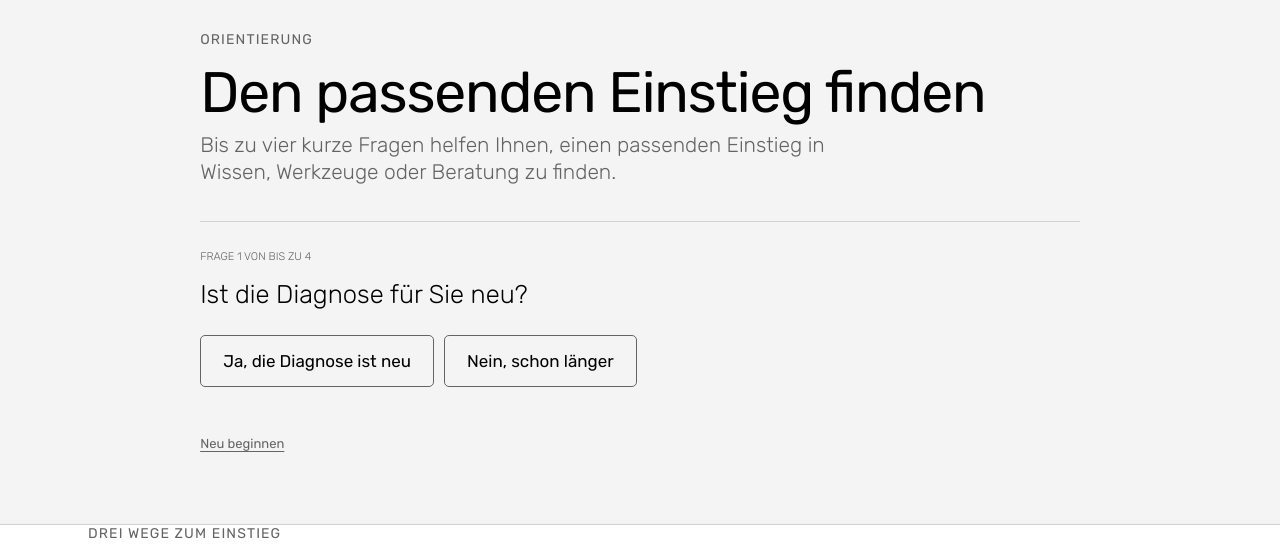
HomePage triage flow › routes a new diagnosis to the introductory module and can restart
This screenshot has width=1280, height=554.
(page scrolled)
What coordinates should you click on to do the following:
click the button "Ja, die Diagnose ist neu"
I would click on:
 (317, 361)
Its box is [200,335,434,387].
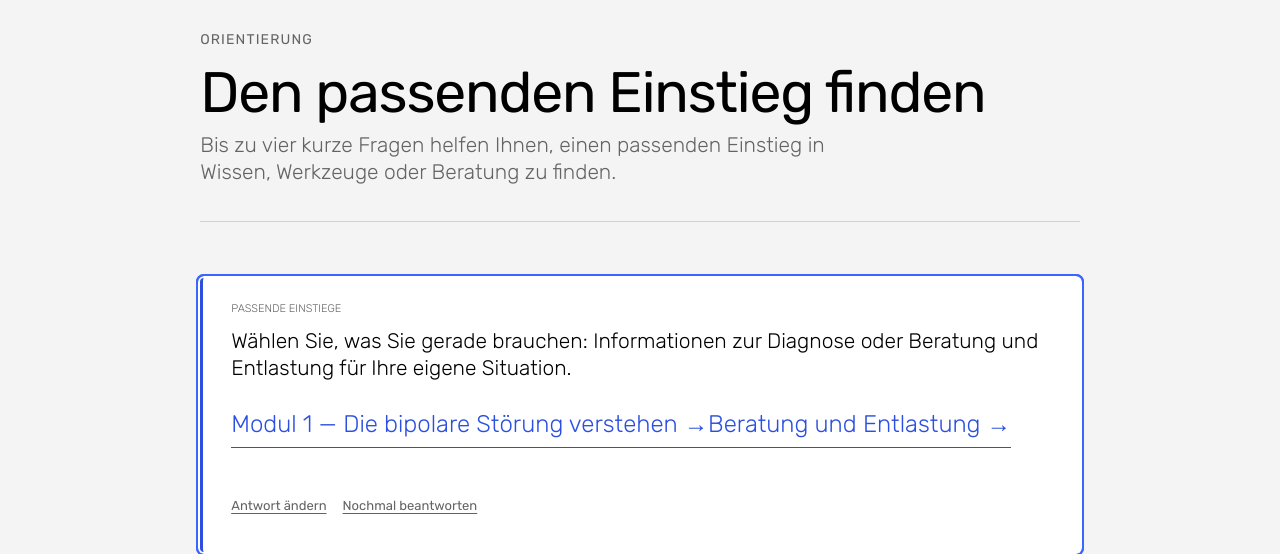
What coordinates should you click on to do the following:
click the link "Modul 1 — Die bipolare Störung verstehen →"
I would click on:
 (470, 426)
Its box is [231,404,708,448].
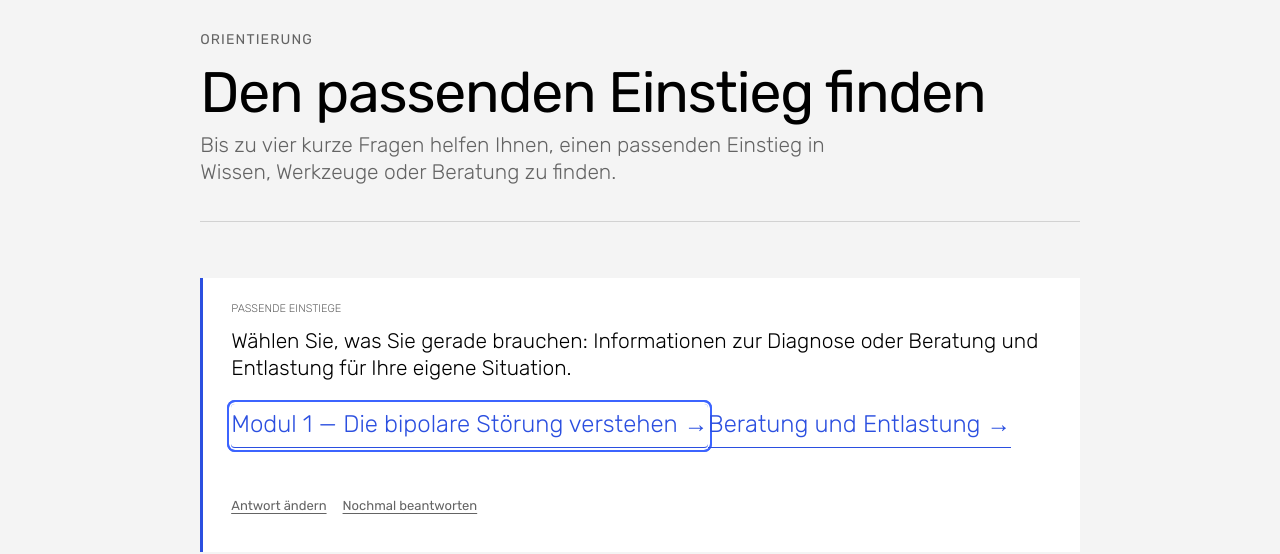
What coordinates should you click on to do the following:
click the button "Nochmal beantworten"
I would click on:
 (410, 506)
Its box is [343,484,477,528].
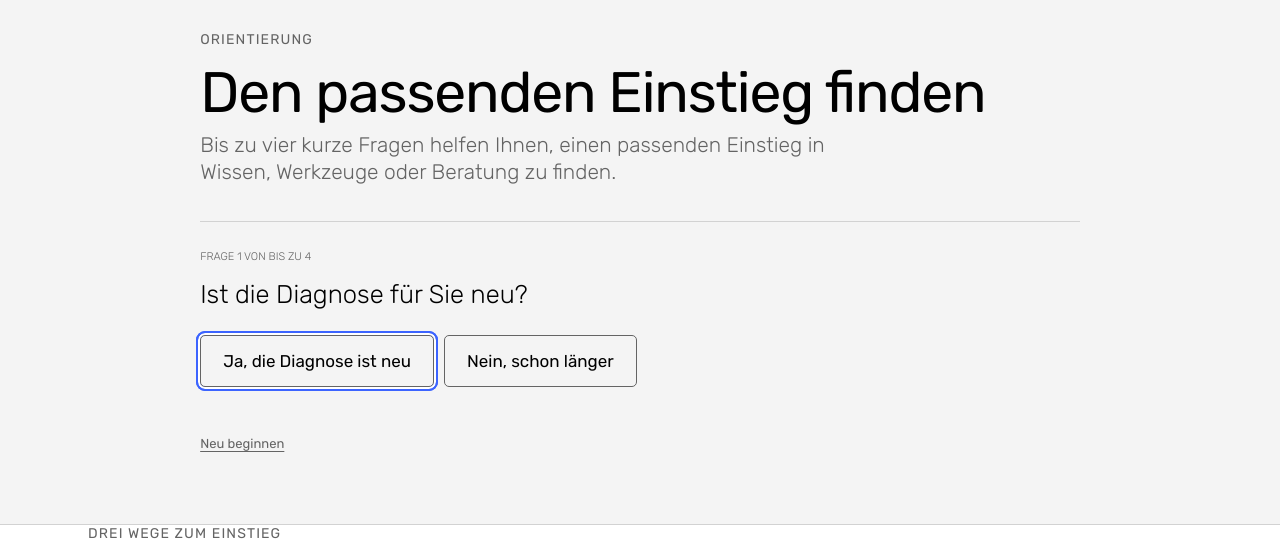
Result: the text "Frage 1 von bis zu 4" is shown at [200,250,311,263]
